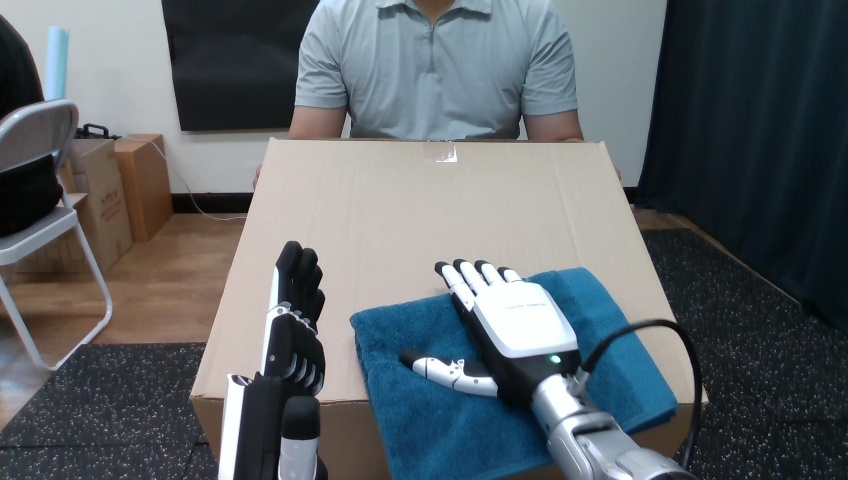left robot hand: (401, 259, 701, 479), (219, 241, 324, 479)
